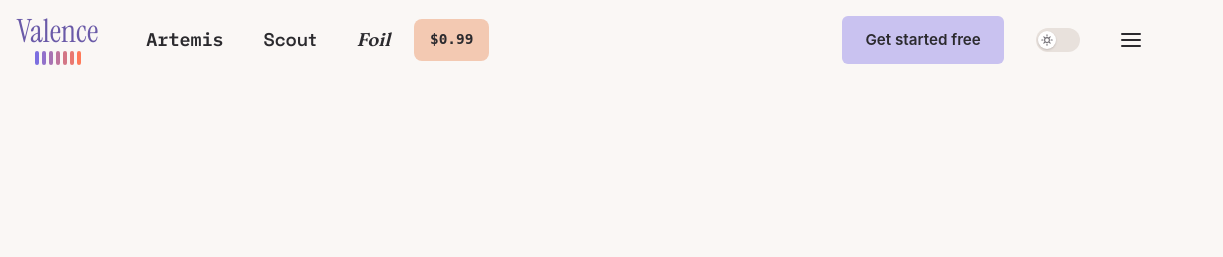
Test: Header hamburger menu › closes the menu when the toggle is clicked again
Click the button with test id "menu-toggle": (1131, 40) [1112,22,1149,58]
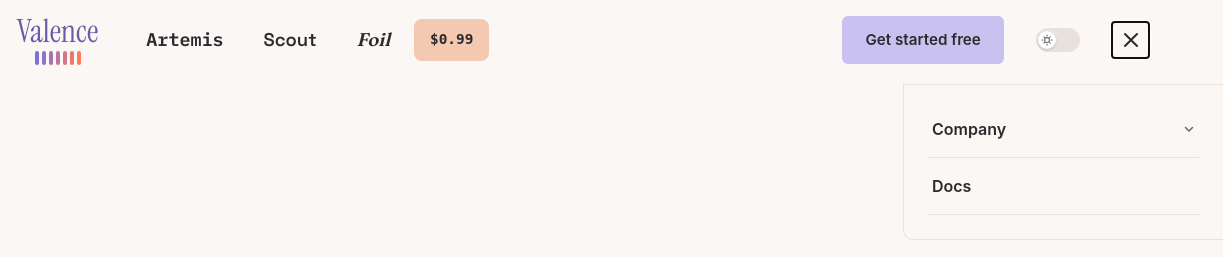
expect the element with test id "nav-menu" is shown: met, box [903,84,1222,240]
Click the button with test id "menu-toggle": (1131, 40) [1112,22,1149,58]
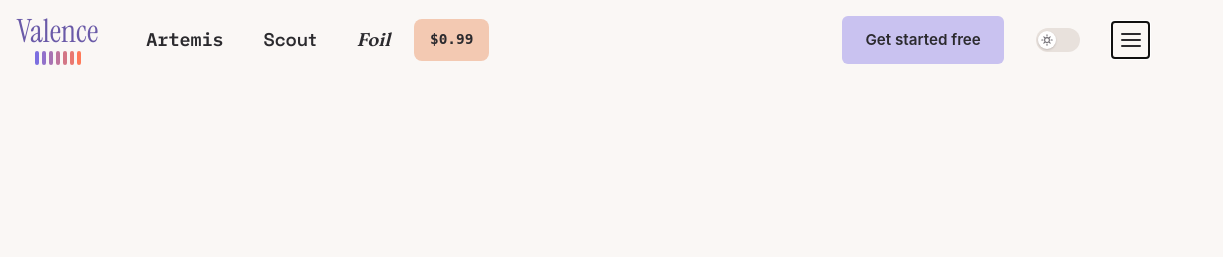
expect the element with test id "nav-menu" is gone: met
